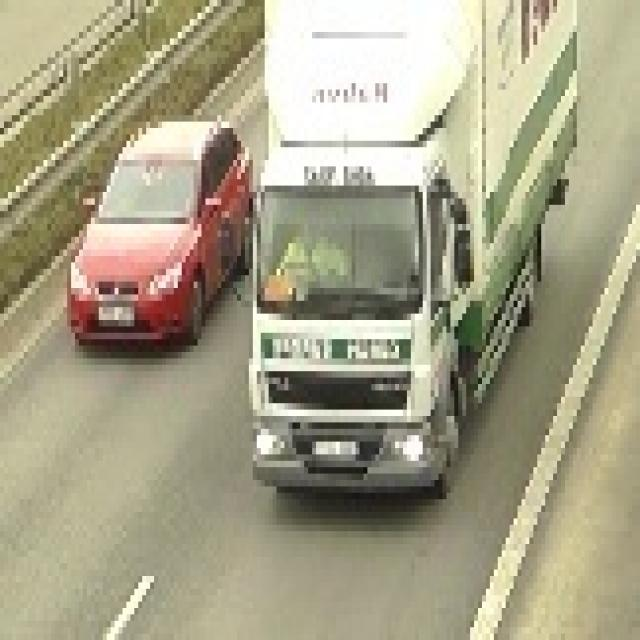Truck: (245, 0, 573, 486)
